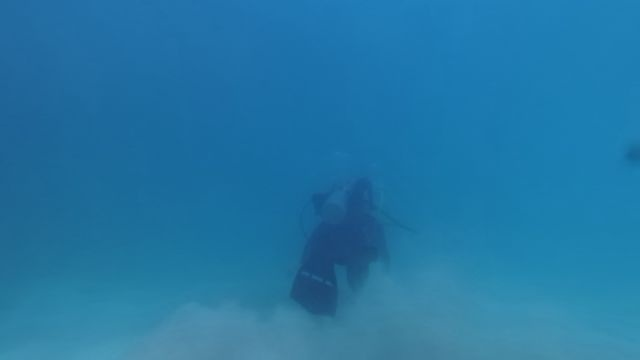Diver: (287, 173, 403, 324)
